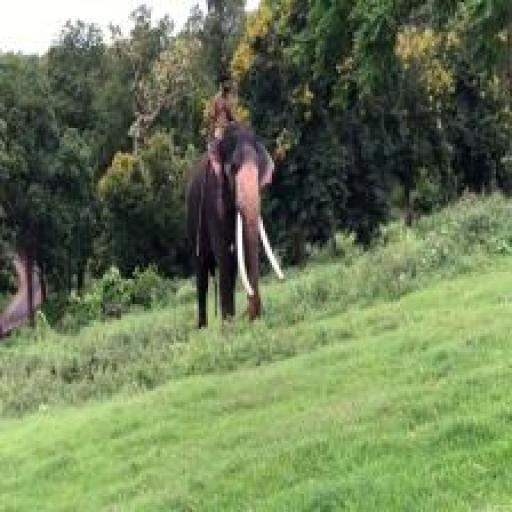Elephant: (181, 119, 288, 338)
